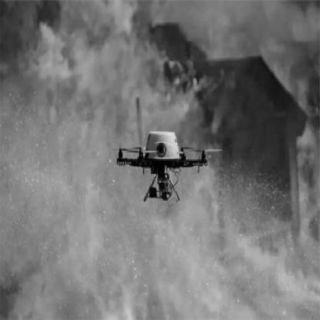Fire: (4, 3, 318, 313)
other: (143, 125, 180, 163)
